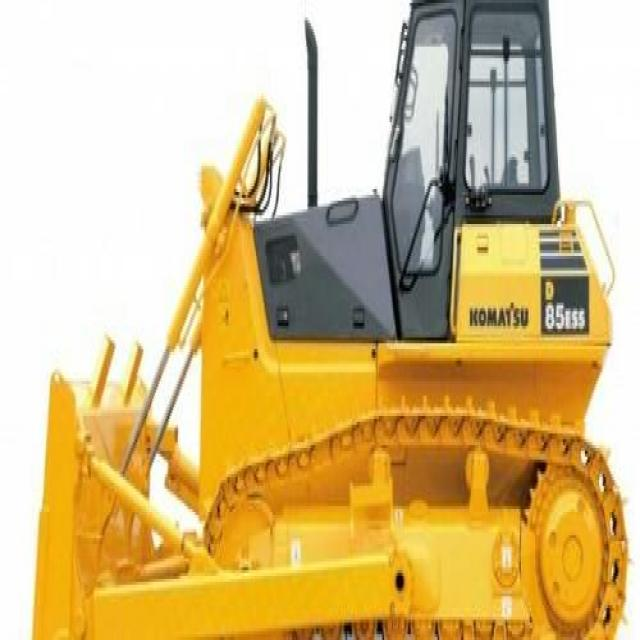Bulldozer: (26, 0, 628, 637)
